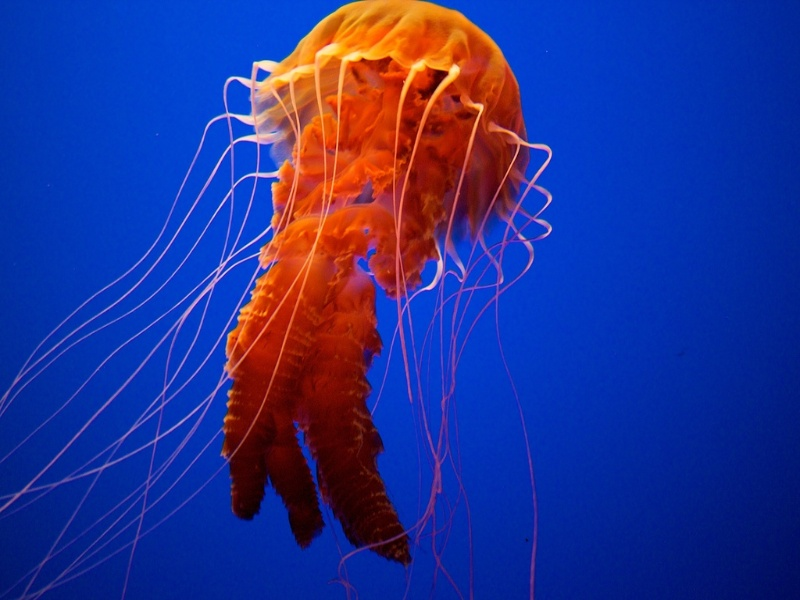Jellyfish: (0, 0, 552, 600)
